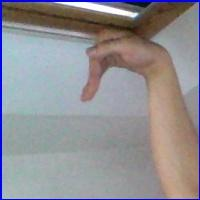del: (78, 23, 172, 110)
